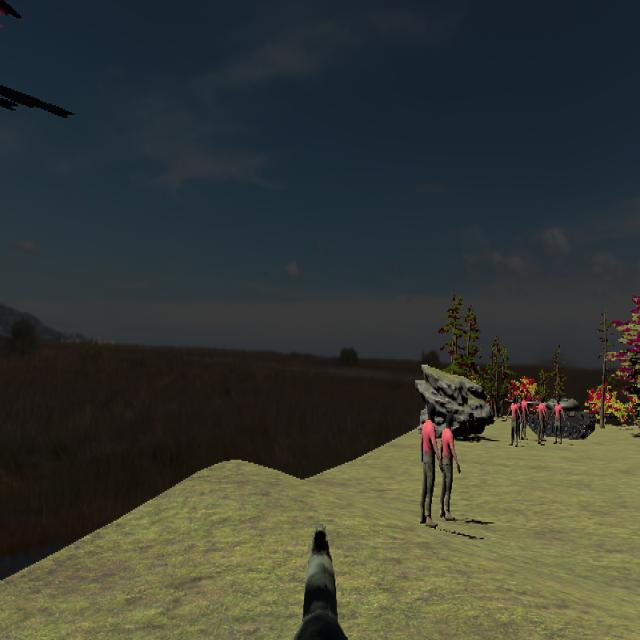Human: (420, 402, 442, 527), (439, 409, 461, 523), (506, 395, 522, 447), (549, 397, 566, 445), (535, 396, 547, 444), (518, 393, 530, 439)
Tank: (510, 396, 597, 440)
